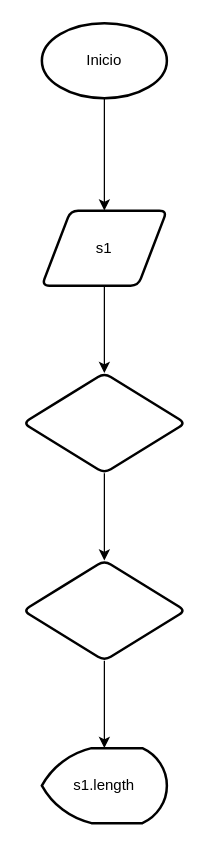
Some shapes in this 208 by 845 pixel diagram are drawn without their labels. The shapes that lost their labels are listed below. From the top down, each one's centre as x and y in pixels, then its label:
At (x=103, y=422): "i=0; i<s1.length; ++i".
At (x=103, y=610): "s1[i] = ' '".
